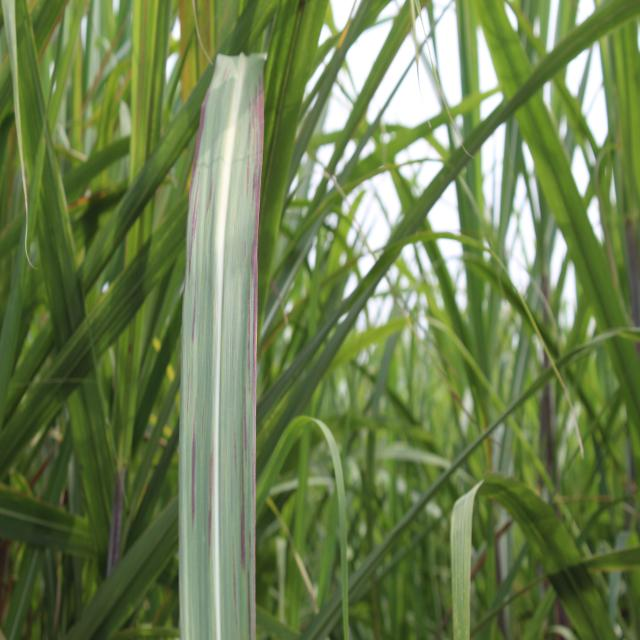Sugarcane: (383, 2, 634, 635), (42, 255, 392, 637), (0, 1, 127, 580), (2, 4, 92, 636), (0, 193, 188, 485), (178, 54, 268, 640), (253, 228, 440, 489), (503, 32, 636, 380), (74, 67, 216, 306), (448, 238, 586, 455), (325, 139, 477, 325), (300, 1, 432, 195), (310, 481, 469, 640), (261, 174, 371, 367), (59, 486, 185, 640), (119, 296, 192, 548), (257, 0, 317, 288), (4, 414, 77, 640), (3, 127, 134, 236), (428, 230, 500, 427), (474, 475, 602, 585), (26, 128, 80, 366), (254, 412, 345, 551), (79, 2, 143, 198), (0, 346, 84, 486), (600, 10, 640, 302), (5, 1, 56, 215), (0, 206, 35, 469), (468, 3, 540, 129), (63, 372, 107, 566), (493, 422, 579, 520), (541, 549, 631, 640), (45, 1, 90, 175), (0, 483, 95, 554), (263, 494, 315, 621), (109, 289, 142, 483), (310, 453, 344, 632), (416, 83, 506, 148), (502, 320, 536, 483), (497, 99, 522, 306), (532, 535, 639, 583), (86, 226, 133, 332), (84, 337, 116, 489), (370, 404, 449, 464), (147, 0, 173, 167), (557, 325, 640, 375), (214, 0, 274, 64), (367, 329, 402, 434), (252, 598, 313, 640)
